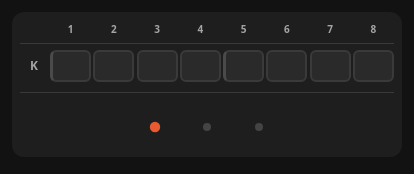
Test: PortraitGrid semantics › does not render nonexistent steps on a partial final page
Click the button named "View steps 17-18".
click(259, 127)  # box [237, 105, 281, 149]
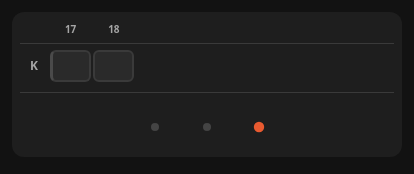
Expected: the text "17" is shown, [65, 22, 76, 36]
Expected: the text "18" is shown, [108, 22, 120, 36]
